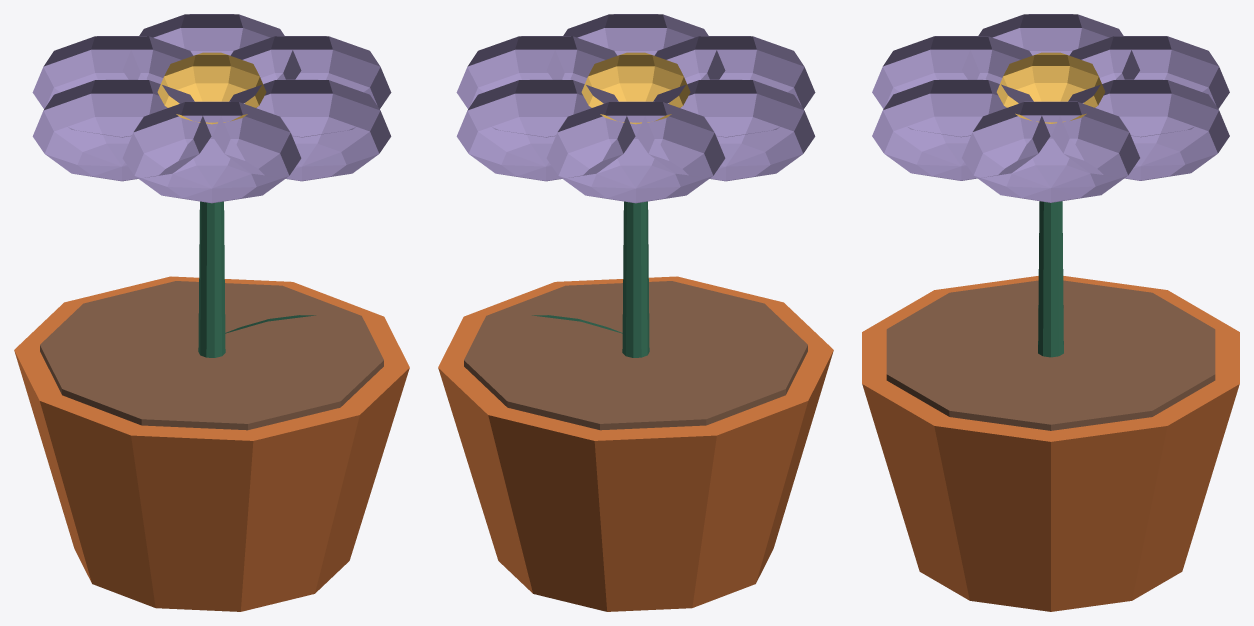
Rendered from turning-seasons-sprout-planter-005b02c6__2118.glb.
3 renders of one model, left to right at view 1: azimuth 30°, elevation 25°; view 2: azimuth 150°, elevation 25°; view 3: azimuth 270°, elevation 25°, orthographic.
Visible parts, largest first — view 1: sprout-planter; view 2: sprout-planter; view 3: sprout-planter.
Boxes of the visible parts, x1,y1,x2,y2 form: sprout-planter: (14,14,409,611); sprout-planter: (438,14,833,611); sprout-planter: (862,14,1239,611).
Bounding box in the file's own units: 0.46 × 0.631 × 0.4375.
